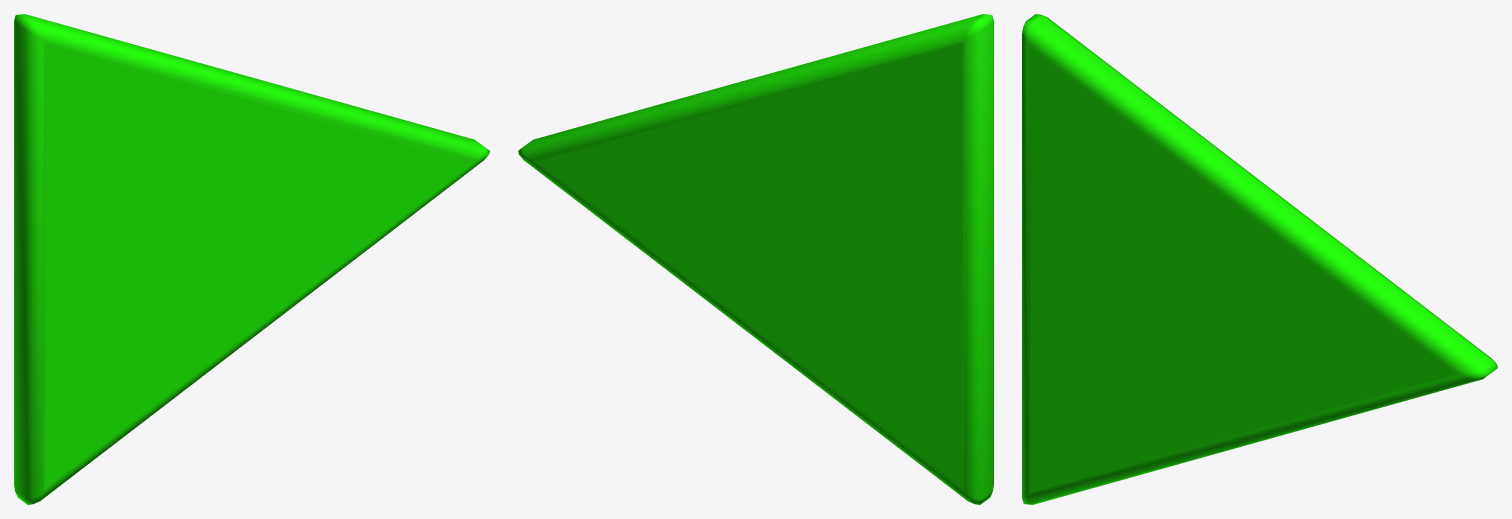
Rendered from playButton.fbx.
The picture shows the model from 3 angles, left to right: view 1: azimuth 30°, elevation 25°; view 2: azimuth 150°, elevation 25°; view 3: azimuth 330°, elevation 25°; orthographic projection.
Visible parts, largest first — view 1: Cube; view 2: Cube; view 3: Cube.
Boxes of the visible parts, x1,y1,x2,y2 form: Cube: (14, 14, 489, 504); Cube: (518, 14, 993, 504); Cube: (1022, 14, 1497, 504).
Size of the model in its own units: 28.2 by 27.97 by 2.39.
